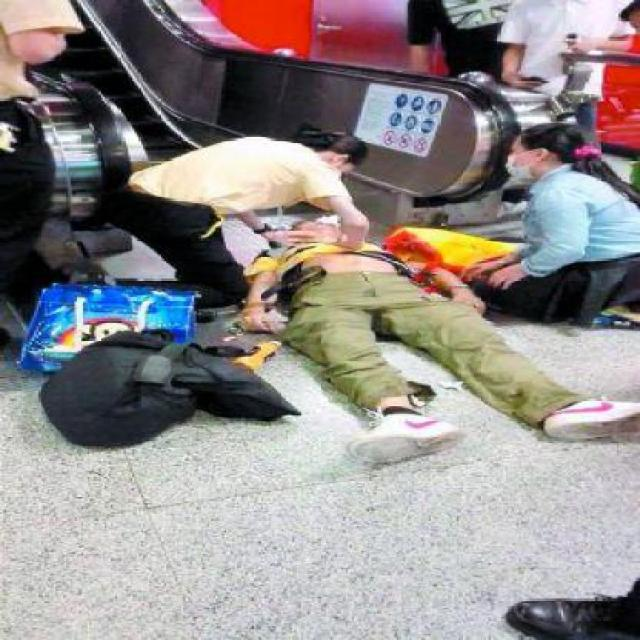fall: (216, 190, 632, 464)
